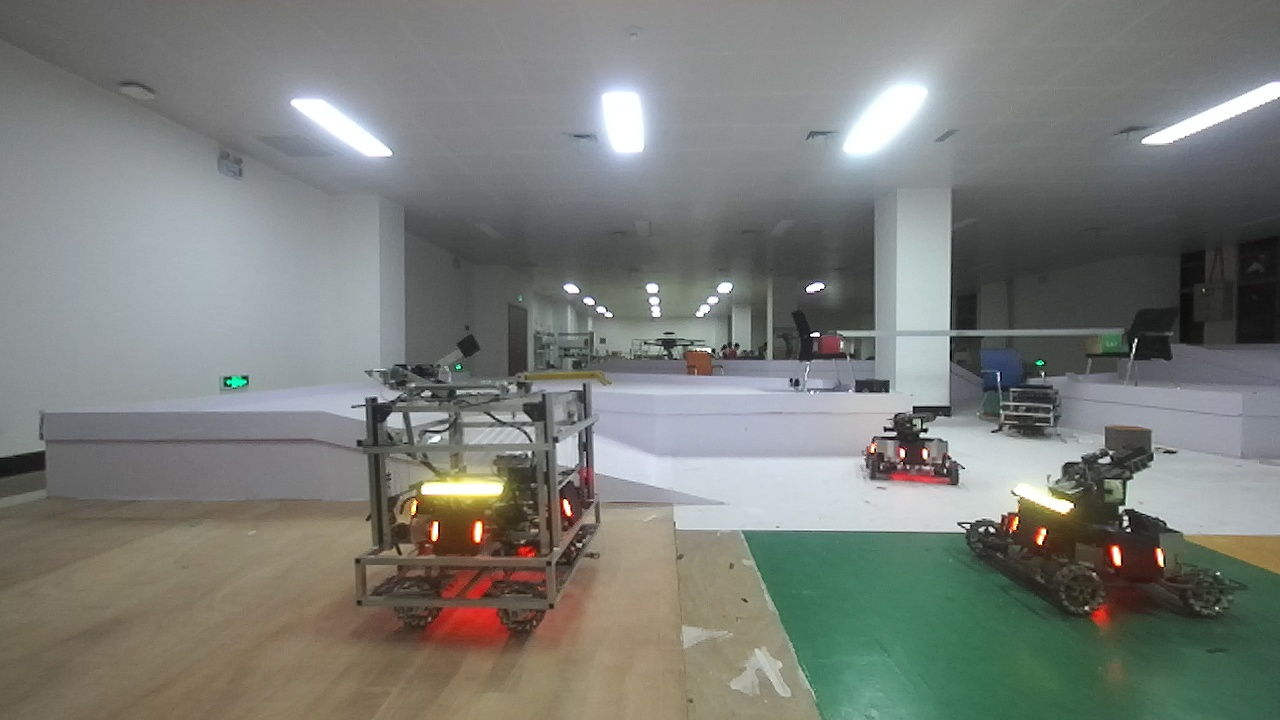car: (340, 343, 606, 635), (959, 445, 1236, 623), (866, 399, 963, 489)
